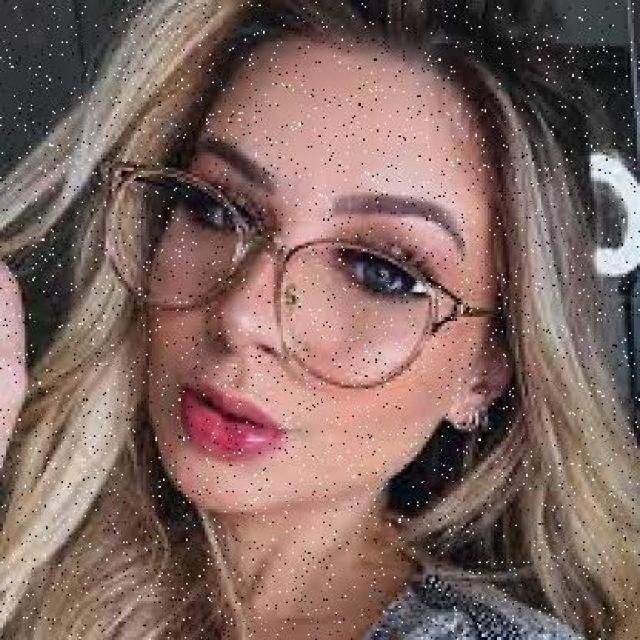glasses: (87, 141, 481, 408)
